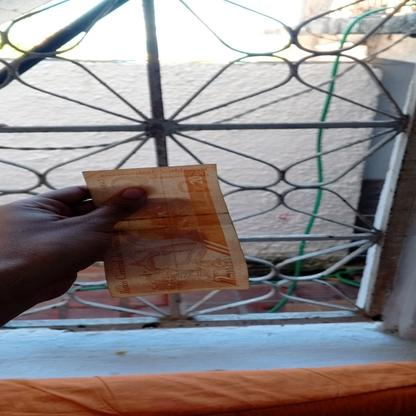twenty-back-vef: (80, 162, 250, 300)
